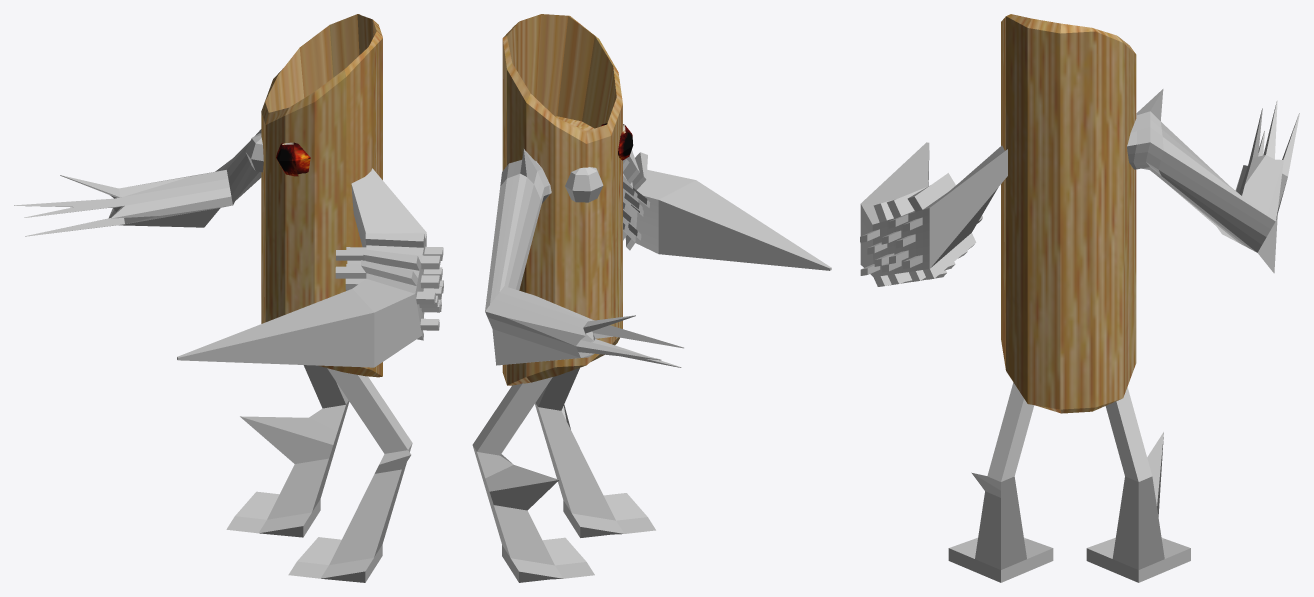
File: complete.obj
3 views of the same model, side by side, from view 1: azimuth 30°, elevation 25°; view 2: azimuth 150°, elevation 25°; view 3: azimuth 270°, elevation 25° (orthographic). The views are drawn at different scales.
Visible parts, largest first — view 1: body_Cylinder, hand_l_Cube.001, leg_r_Cube.002, leg_l_Cube.003, hand_r_Cube, eye_l_Sphere.001; view 2: body_Cylinder, hand_r_Cube, hand_l_Cube.001, leg_r_Cube.002, leg_l_Cube.003, eye_r_Sphere; view 3: body_Cylinder, hand_l_Cube.001, hand_r_Cube, leg_r_Cube.002, leg_l_Cube.003.
Part boxes in pixels (x1=…): body_Cylinder: x1=261, y1=14, x2=382, y2=377; hand_l_Cube.001: x1=177, y1=168, x2=443, y2=367; leg_r_Cube.002: x1=226, y1=365, x2=349, y2=537; leg_l_Cube.003: x1=288, y1=368, x2=412, y2=582; hand_r_Cube: x1=14, y1=129, x2=261, y2=236; eye_l_Sphere.001: x1=276, y1=142, x2=310, y2=176; body_Cylinder: x1=502, y1=14, x2=622, y2=385; hand_r_Cube: x1=485, y1=149, x2=683, y2=367; hand_l_Cube.001: x1=623, y1=150, x2=831, y2=270; leg_r_Cube.002: x1=472, y1=377, x2=594, y2=582; leg_l_Cube.003: x1=535, y1=368, x2=655, y2=537; eye_r_Sphere: x1=565, y1=167, x2=603, y2=202; body_Cylinder: x1=1001, y1=14, x2=1136, y2=413; hand_l_Cube.001: x1=860, y1=142, x2=1007, y2=286; hand_r_Cube: x1=1127, y1=89, x2=1299, y2=273; leg_r_Cube.002: x1=1086, y1=387, x2=1190, y2=582; leg_l_Cube.003: x1=948, y1=382, x2=1053, y2=582.
Size of the model in its own units: 1.53 by 2.77 by 1.94.
